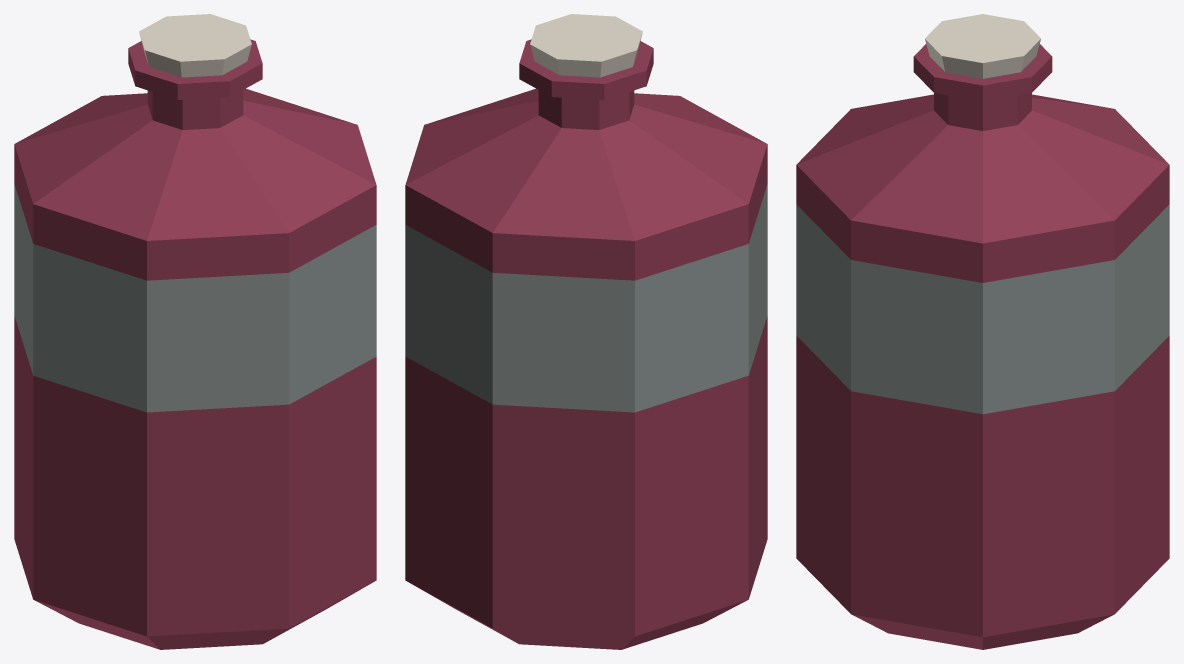
The model's file is Bottle2.fbx.
3 views of the same model, side by side, from view 1: azimuth 30°, elevation 25°; view 2: azimuth 150°, elevation 25°; view 3: azimuth 270°, elevation 25° (orthographic).
Parts seen in each view (by area): view 1: Bottle_2B.002; view 2: Bottle_2B.002; view 3: Bottle_2B.002.
Part boxes in pixels (x1,y1,x2,y2): Bottle_2B.002: (14, 14, 376, 649); Bottle_2B.002: (405, 14, 767, 649); Bottle_2B.002: (796, 14, 1169, 649).
Size of the model in its own units: 0.3431 by 0.5626 by 0.3431.
